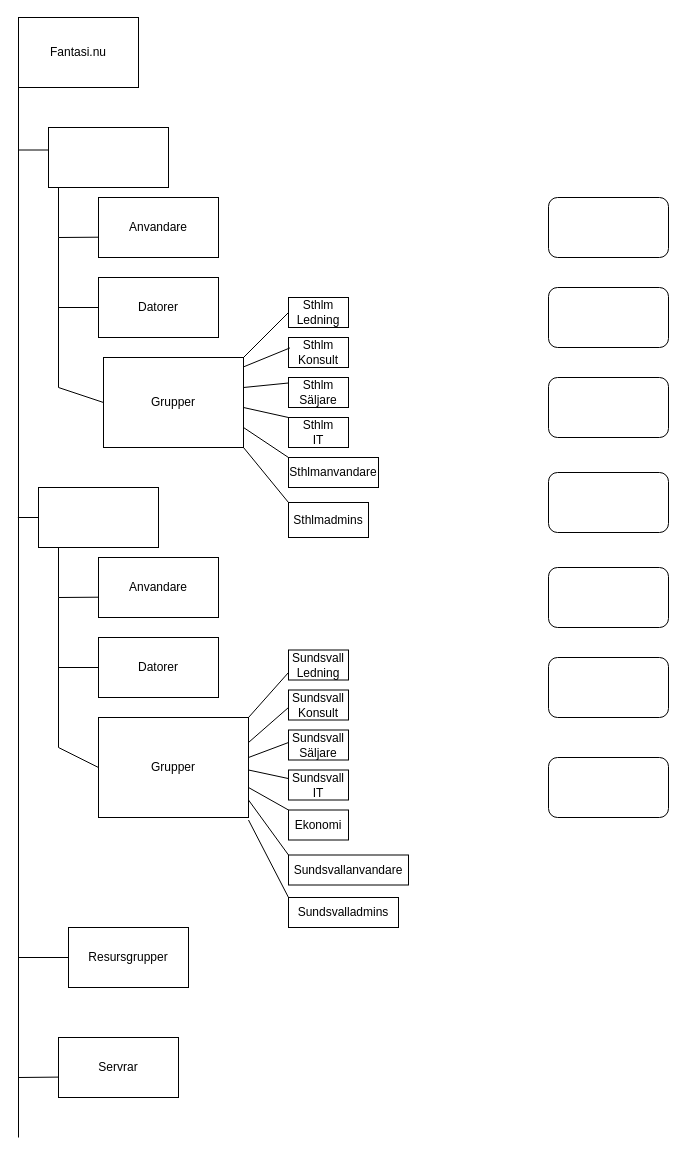
The diagram is 686 pixels wide and 1156 high, and some of its shapes have lost their labels. Each missing label, with the centre of its shape:
"Stockholm" belongs at point (108, 157).
"Sundsvall" belongs at point (98, 517).
